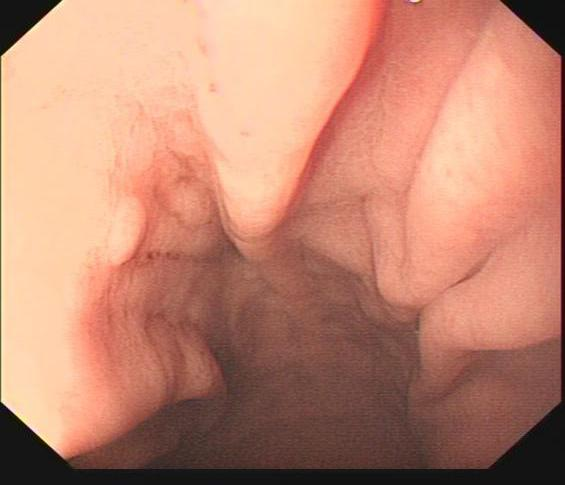Polyp: (92, 191, 147, 270), (152, 178, 218, 232)
